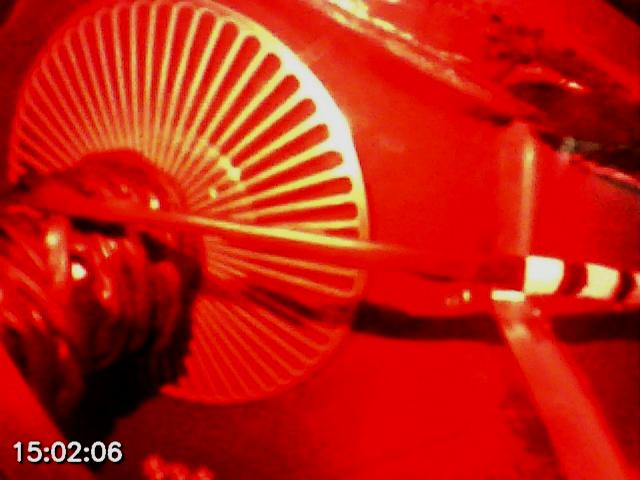white-dots: (523, 255, 640, 308)
